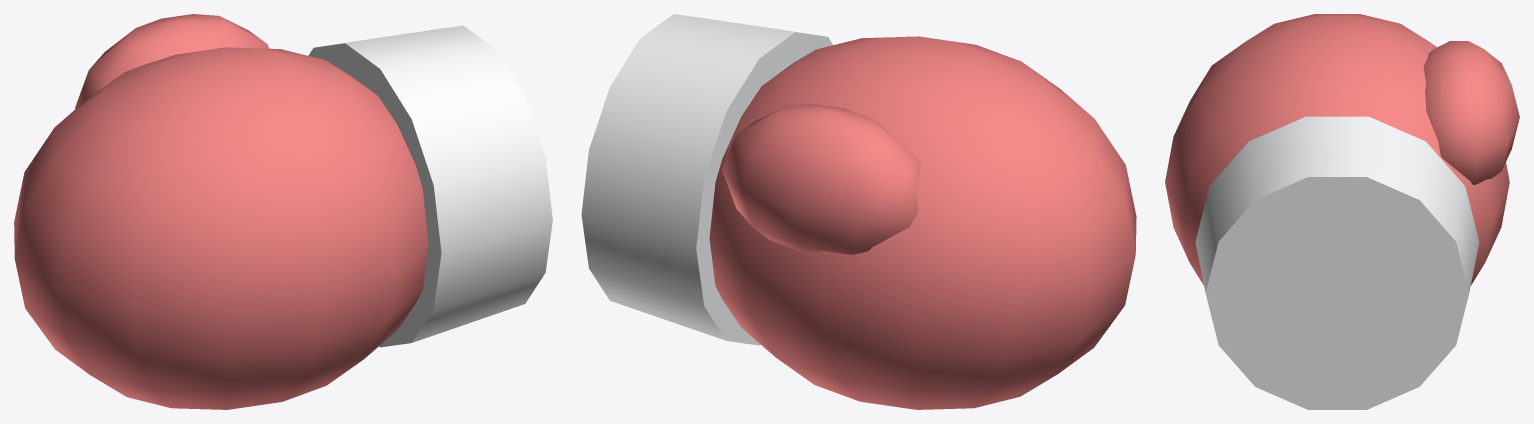
Rendered from Punch.fbx.
3 views of the same model, side by side, from view 1: azimuth 30°, elevation 25°; view 2: azimuth 150°, elevation 25°; view 3: azimuth 270°, elevation 25° (orthographic). The views are drawn at different scales.
Visible parts, largest first — view 1: glove; view 2: glove; view 3: glove.
Part boxes in pixels (box(x1,y1,x2,y2)): glove: box(14, 14, 552, 409); glove: box(581, 14, 1136, 409); glove: box(1165, 14, 1519, 409).
Size of the model in its own units: 0.455 by 0.32 by 0.35.
